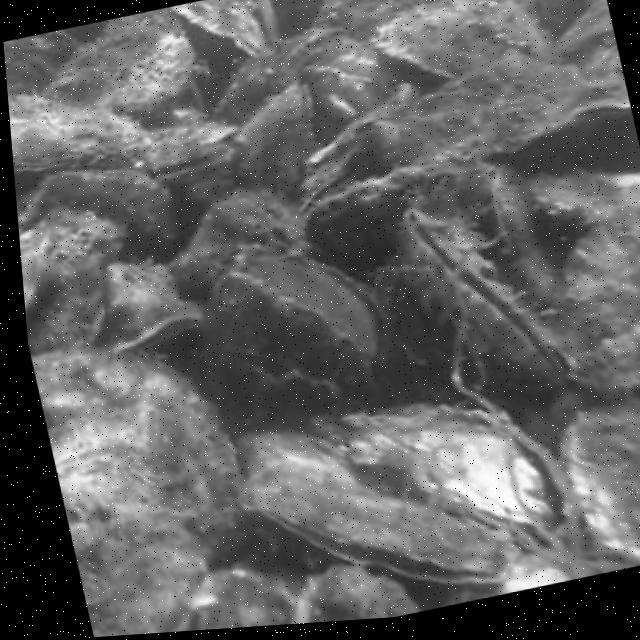Oyster-Closed: (8, 92, 152, 185), (492, 164, 560, 304), (102, 264, 179, 346), (301, 133, 374, 215), (112, 300, 204, 357), (117, 144, 233, 189), (558, 0, 614, 56)
Oyster-Indeterminate: (33, 351, 247, 637), (379, 56, 627, 175), (318, 405, 554, 529), (173, 190, 308, 306), (22, 172, 182, 268), (27, 207, 126, 360), (373, 0, 559, 80), (223, 30, 380, 120), (303, 169, 423, 286), (44, 25, 193, 116), (562, 408, 640, 559), (564, 209, 640, 340), (237, 87, 314, 207), (293, 565, 419, 624), (108, 122, 238, 172), (195, 567, 298, 630), (529, 169, 640, 226), (173, 0, 280, 55), (3, 30, 82, 101), (570, 328, 640, 398), (312, 0, 422, 42), (408, 159, 490, 208), (19, 223, 50, 323)
Oyster-Open: (242, 434, 520, 585), (201, 253, 388, 431), (399, 212, 575, 391)
